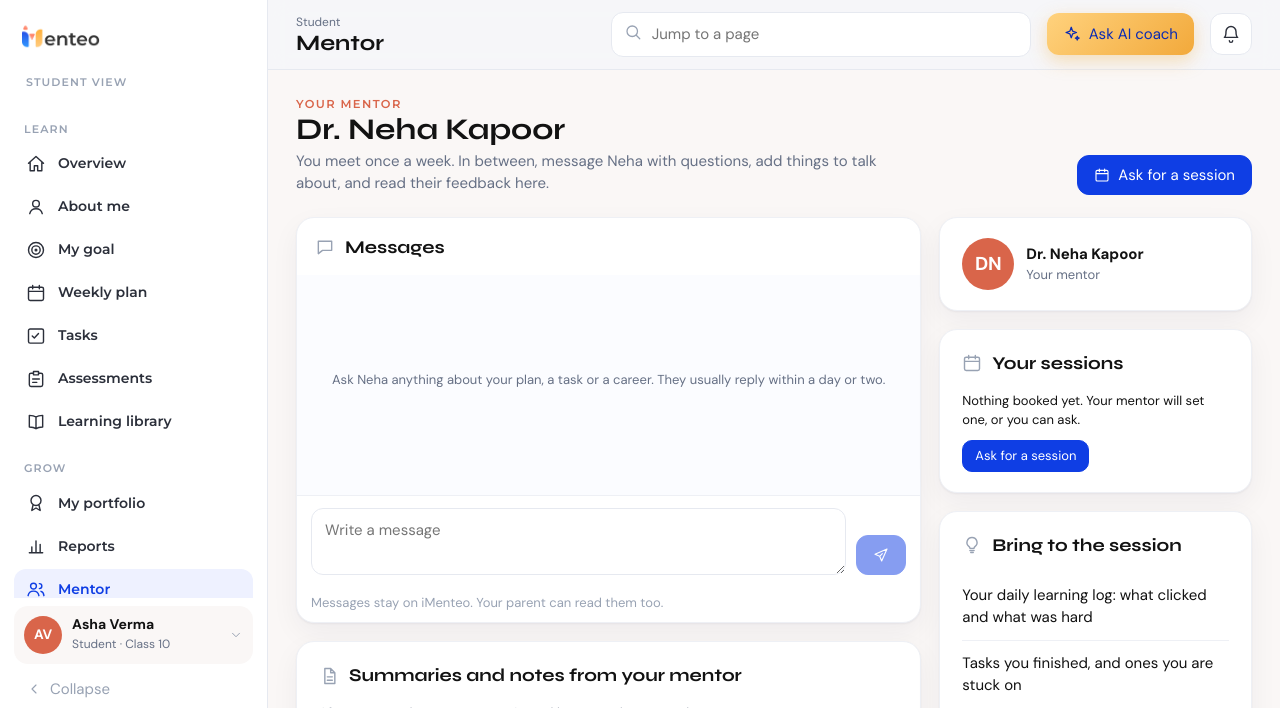
Test: student: sessions as real meetings › with the mentor's hours set, picks one of the free times
Click the 1st button "Ask for a session": (1165, 175) 1077,155 -> 1252,195
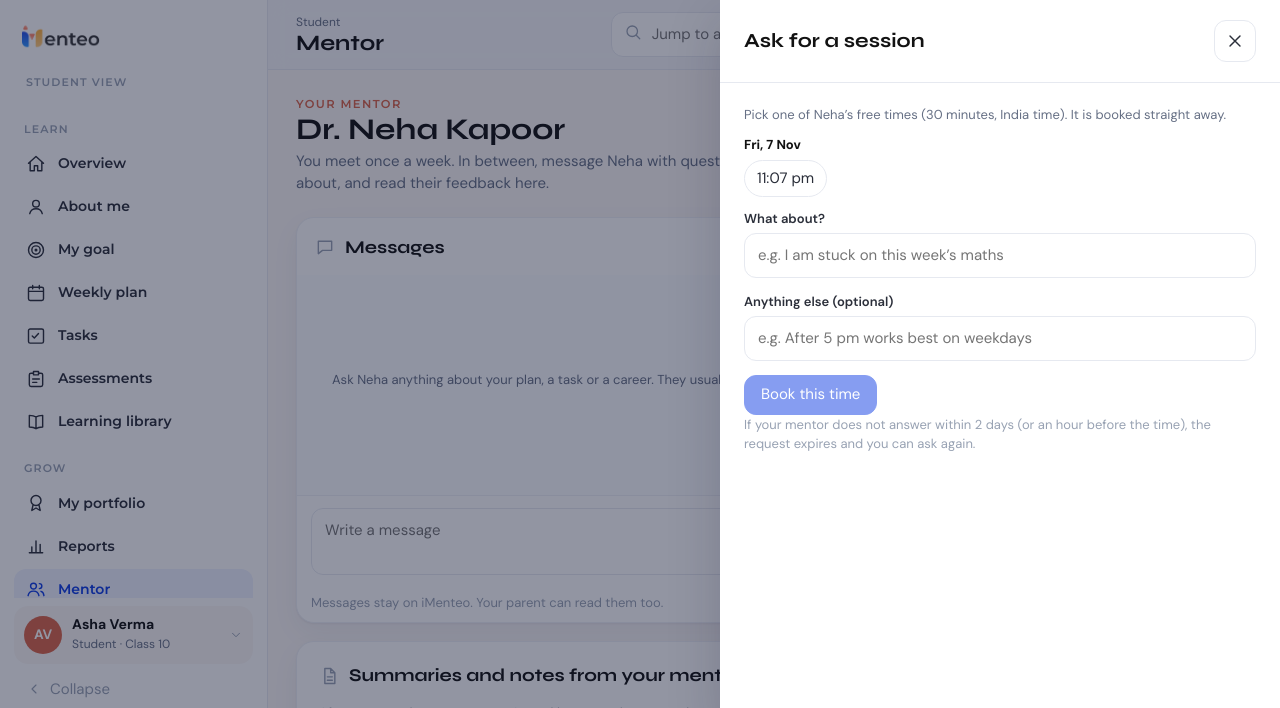
Expected: the text "Fri, 7 Nov" is shown, 744,136 -> 801,152
Expected: the button "Book this time" is disabled, 744,374 -> 877,414
Click the button "11:07 pm": (786, 178) 744,160 -> 827,196
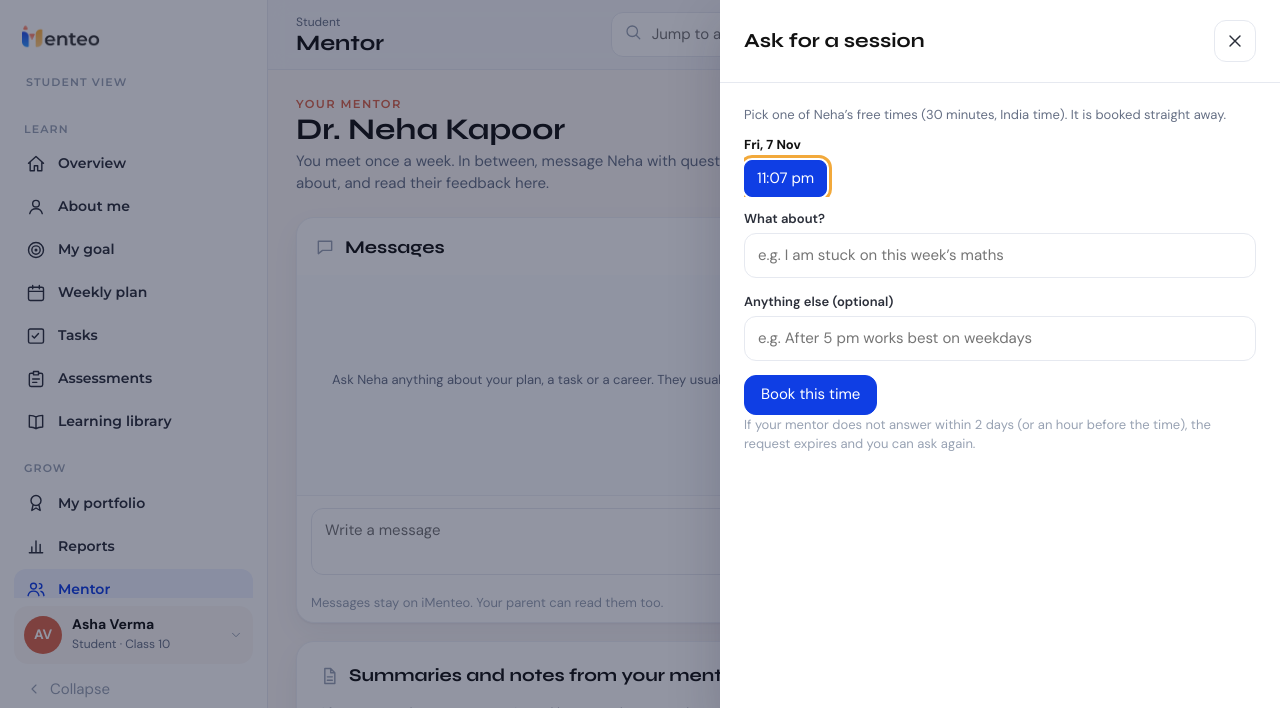
Click the button "Book this time": (811, 394) 744,374 -> 877,414
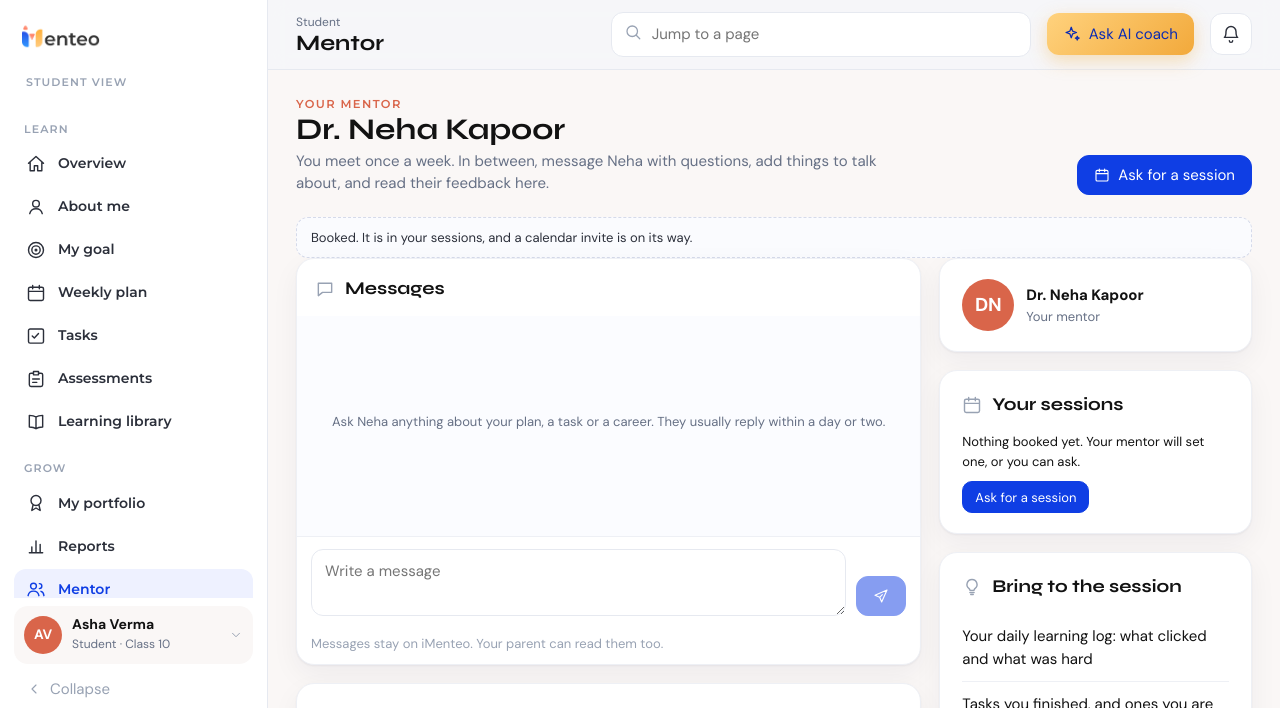
Expected: the text "Booked. It is in your sessions, and a calendar invite is on its way." is shown, 296,217 -> 1252,258
